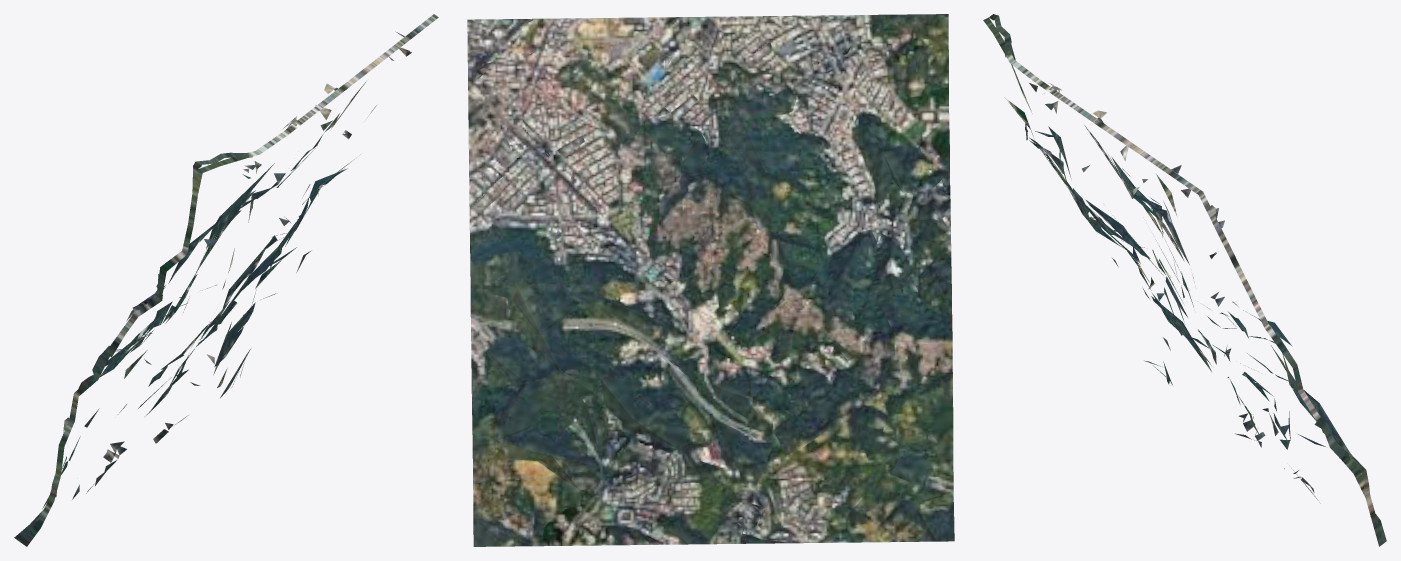
3 views of the same model, side by side, from view 1: azimuth 30°, elevation 25°; view 2: azimuth 150°, elevation 25°; view 3: azimuth 270°, elevation 25° (orthographic). The views are drawn at different scales.
Bounding box in the file's own units: 2496 × 2283 × 2014.
Materials: 1 (1 with a texture image).
